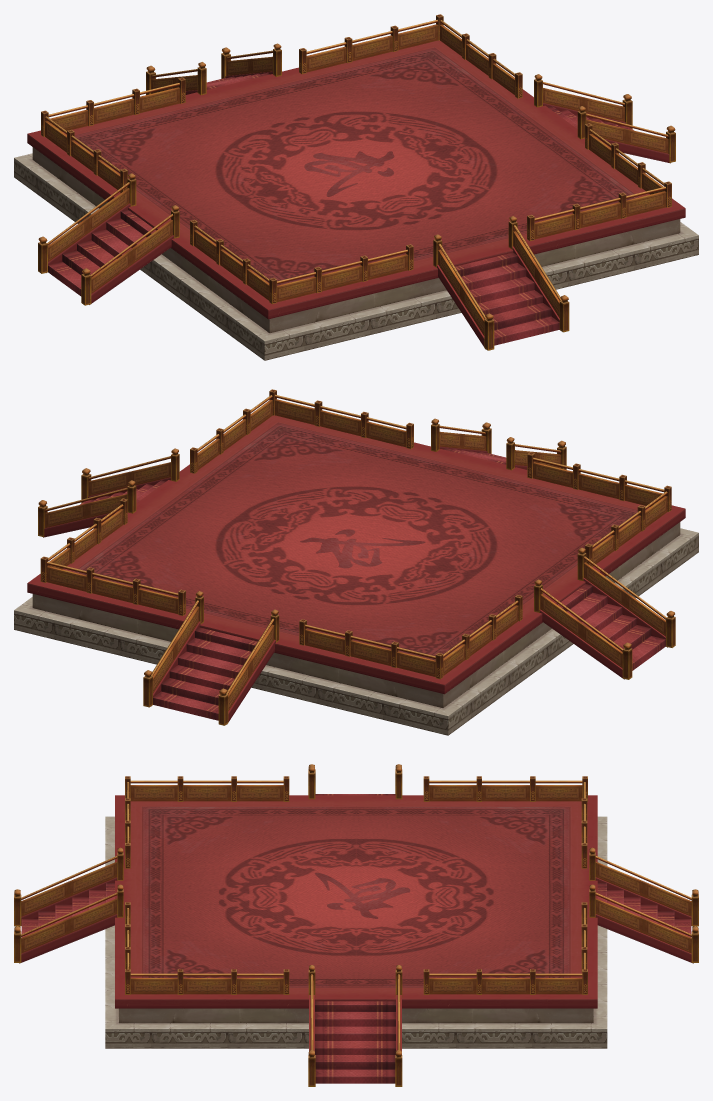
File: szc_building_leitai14_2a.FBX
The picture shows the model from 3 angles, top to bottom: view 1: azimuth 30°, elevation 25°; view 2: azimuth 150°, elevation 25°; view 3: azimuth 270°, elevation 25°; orthographic projection.
Visible parts, largest first — view 1: szc_building_leitai14_2a; view 2: szc_building_leitai14_2a; view 3: szc_building_leitai14_2a.
Part boxes in pixels (x1=…): szc_building_leitai14_2a: x1=14, y1=14, x2=698, y2=360; szc_building_leitai14_2a: x1=14, y1=389, x2=698, y2=735; szc_building_leitai14_2a: x1=14, y1=764, x2=698, y2=1086.
Size of the model in its own units: 12.69 by 1.6 by 12.73.
